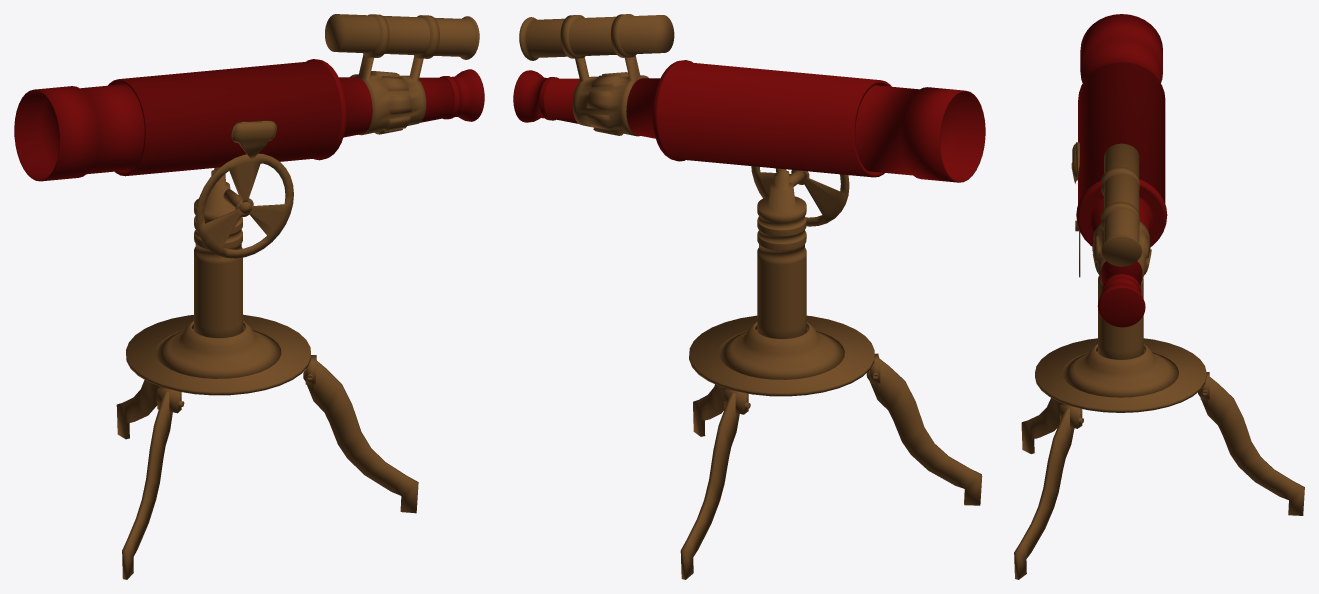
Rendered from Telescope.fbx.
3 renders of one model, left to right at view 1: azimuth 30°, elevation 25°; view 2: azimuth 150°, elevation 25°; view 3: azimuth 270°, elevation 25°, orthographic. The views are drawn at different scales.
Visible parts, largest first — view 1: Cylinder.002; view 2: Cylinder.002; view 3: Cylinder.002.
Part boxes in pixels (x1,y1,x2,y2): Cylinder.002: [14, 14, 484, 579]; Cylinder.002: [513, 14, 985, 579]; Cylinder.002: [1014, 14, 1304, 579].
Bounding box in the file's own units: 108 × 107 × 66.03.
